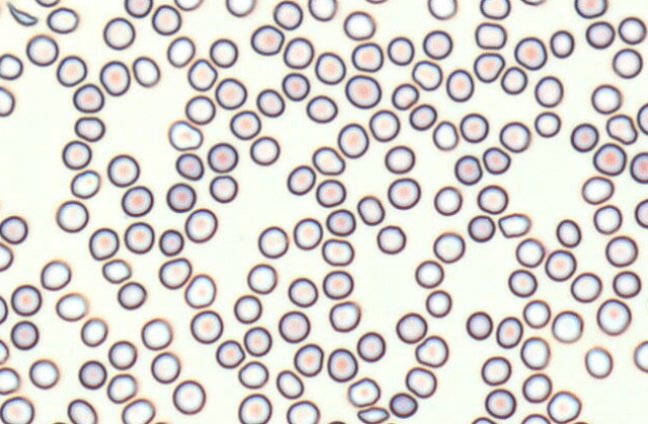RBC: (596, 298, 631, 335), (345, 74, 381, 108), (546, 390, 581, 423), (172, 379, 205, 414), (184, 207, 217, 242), (592, 142, 626, 175), (102, 16, 135, 50), (190, 309, 223, 343), (514, 36, 547, 70), (184, 273, 216, 308), (337, 122, 368, 158), (99, 60, 130, 96), (25, 33, 58, 66), (55, 199, 88, 232), (414, 335, 448, 367), (107, 153, 139, 187), (168, 119, 203, 150), (387, 177, 420, 209), (551, 310, 583, 343), (278, 310, 310, 343), (158, 257, 191, 289), (605, 235, 638, 267), (250, 24, 284, 55), (237, 393, 272, 423), (327, 347, 357, 382), (368, 109, 400, 141), (328, 300, 360, 332), (215, 77, 247, 109), (544, 249, 576, 281), (433, 231, 465, 263), (314, 51, 345, 84), (141, 317, 172, 350), (257, 225, 288, 258), (88, 227, 119, 260), (484, 388, 516, 419), (405, 366, 436, 398), (283, 36, 314, 68), (351, 41, 383, 72), (395, 312, 427, 343), (605, 113, 637, 144), (570, 271, 602, 302), (123, 221, 154, 253), (121, 185, 153, 216), (347, 377, 380, 407), (187, 58, 217, 91), (312, 145, 345, 175), (293, 343, 323, 376), (520, 336, 550, 369), (411, 59, 442, 90), (473, 51, 504, 82), (56, 55, 87, 86), (10, 284, 41, 315), (499, 121, 530, 152), (246, 263, 277, 294), (591, 83, 622, 114), (40, 259, 71, 290), (150, 351, 180, 383), (229, 109, 261, 139), (72, 83, 104, 113), (343, 10, 375, 40), (476, 184, 508, 214), (581, 175, 614, 204), (293, 217, 322, 250), (106, 373, 137, 403), (480, 355, 511, 385), (29, 358, 59, 389), (151, 4, 181, 35), (249, 135, 280, 165), (184, 94, 215, 124), (322, 269, 353, 299), (287, 277, 318, 307), (207, 142, 238, 172), (612, 47, 642, 78), (166, 35, 195, 67), (584, 346, 613, 378), (55, 292, 87, 321), (534, 75, 563, 107), (321, 238, 354, 266), (446, 68, 474, 101), (0, 396, 34, 423), (522, 372, 552, 402), (422, 29, 452, 59), (166, 182, 196, 212), (286, 164, 315, 195), (315, 178, 346, 207), (306, 94, 337, 123), (384, 144, 415, 173), (356, 331, 385, 362), (209, 37, 238, 68), (459, 112, 488, 143), (495, 316, 523, 348), (132, 55, 160, 87), (474, 21, 506, 49), (215, 339, 245, 368), (243, 326, 272, 356), (273, 0, 302, 30), (507, 268, 537, 297), (414, 259, 444, 288), (433, 185, 462, 215), (376, 225, 406, 254), (70, 169, 100, 198), (515, 237, 544, 267), (593, 204, 622, 234), (61, 140, 91, 169), (570, 122, 599, 152), (585, 20, 615, 49), (237, 360, 268, 388), (454, 154, 482, 185), (356, 194, 384, 225), (46, 6, 78, 33), (121, 398, 155, 423), (233, 294, 262, 323), (108, 340, 137, 369), (10, 320, 39, 349), (78, 359, 106, 389), (325, 208, 355, 236), (0, 215, 28, 244), (522, 299, 550, 328), (209, 174, 237, 203), (281, 72, 309, 101), (175, 152, 204, 180), (612, 270, 641, 298), (256, 88, 284, 117), (617, 16, 646, 44), (117, 281, 146, 309), (276, 369, 303, 399), (465, 310, 492, 340), (74, 115, 105, 141), (286, 399, 319, 423), (391, 82, 419, 110), (482, 146, 510, 174), (467, 214, 495, 242), (500, 65, 527, 94), (387, 36, 414, 65), (80, 317, 107, 346), (432, 120, 458, 150), (408, 103, 436, 130), (555, 218, 581, 247), (67, 398, 97, 423), (101, 258, 131, 283), (425, 289, 451, 317), (389, 392, 417, 418), (158, 228, 184, 256), (549, 29, 574, 58), (534, 111, 560, 137), (307, 0, 337, 21), (0, 53, 23, 80), (574, 0, 607, 18), (479, 0, 510, 19), (0, 366, 20, 394), (427, 0, 456, 19), (630, 151, 647, 183), (225, 0, 255, 17), (124, 0, 152, 17), (0, 85, 15, 116), (633, 340, 647, 372), (0, 241, 13, 271), (634, 198, 647, 228), (636, 102, 647, 134), (173, 0, 203, 11), (520, 413, 550, 423), (0, 338, 9, 364), (0, 295, 8, 323), (34, 0, 60, 7), (471, 416, 496, 423), (520, 0, 546, 6), (326, 419, 346, 424), (364, 0, 388, 4), (151, 420, 172, 424), (0, 190, 3, 216), (570, 420, 589, 424), (51, 421, 67, 424)
Schistocyte: (498, 214, 532, 238), (6, 3, 38, 27), (355, 406, 391, 423)
